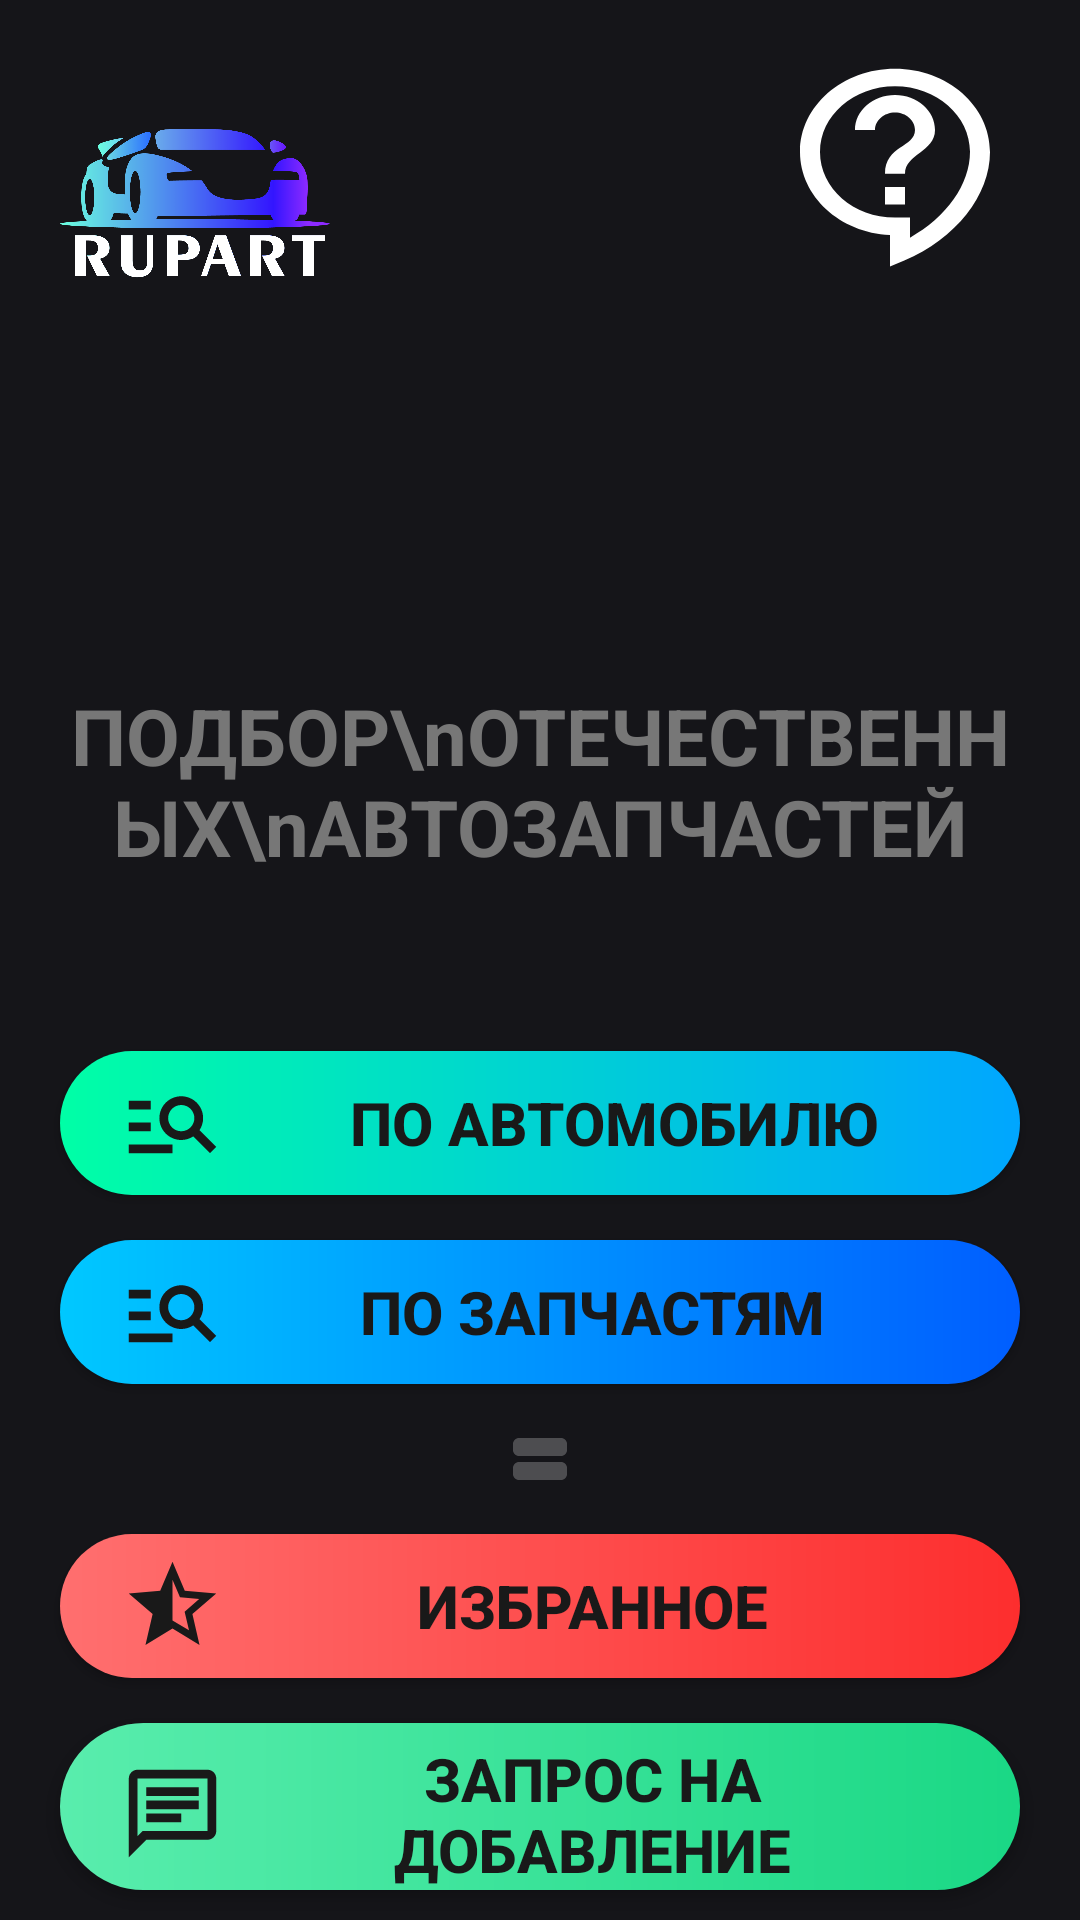

Icons on this 1080x1920 Android screen, each with the point to tap as point (x, y):
question: point (895, 167)
